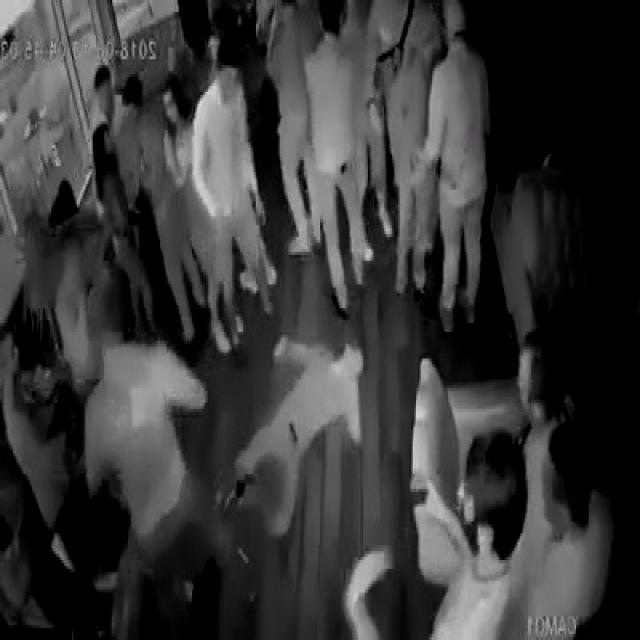fight: (219, 45, 383, 548), (41, 176, 177, 540)
